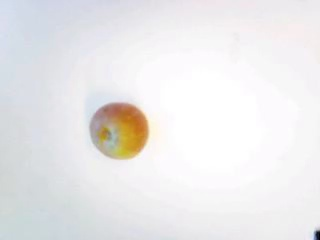apple: (88, 102, 147, 158)
